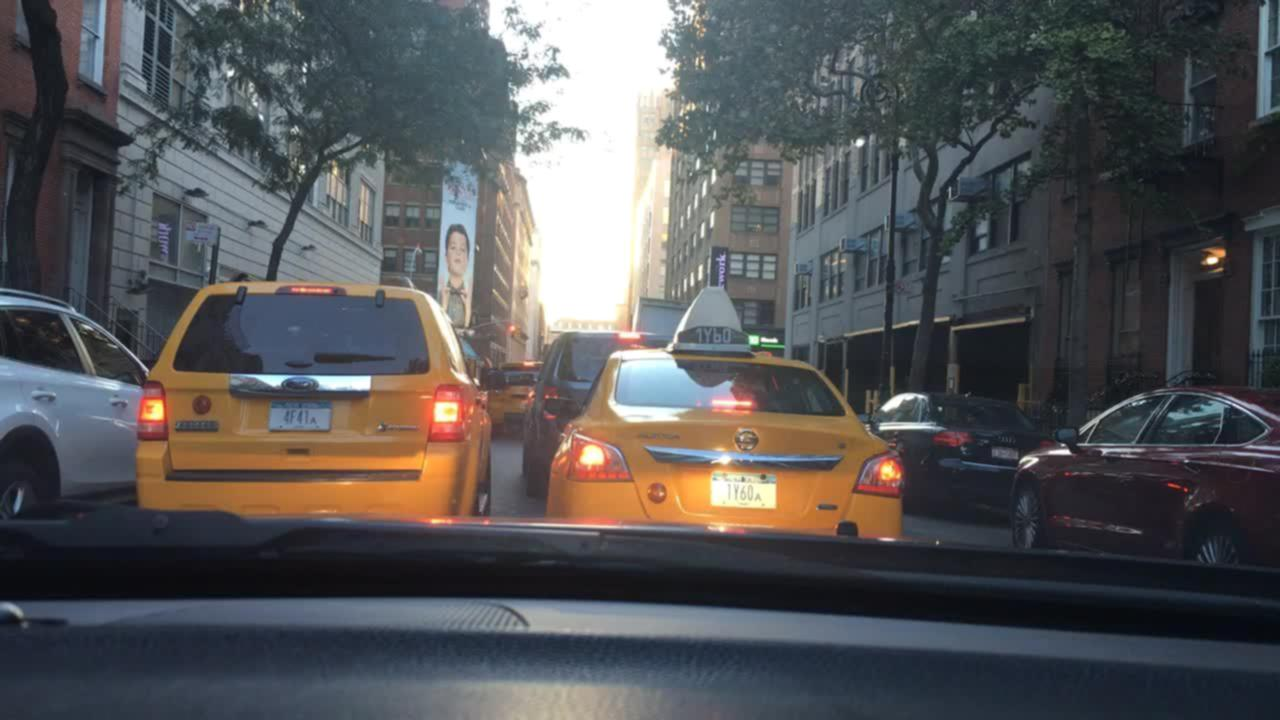Audi: (994, 433, 1025, 448)
Nissan: (730, 426, 765, 452)
ford: (271, 367, 329, 398)
